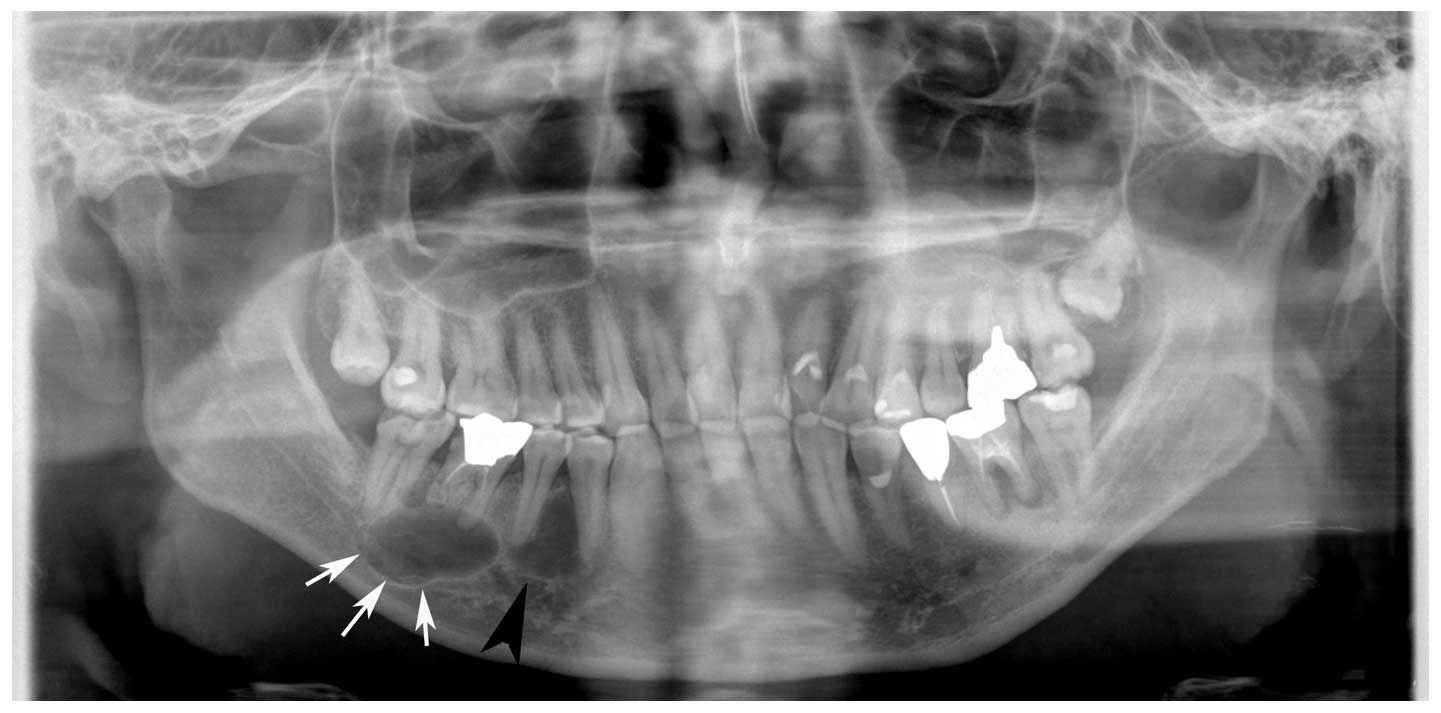canine: (570, 263, 650, 443), (794, 407, 852, 604), (814, 275, 879, 440), (612, 423, 667, 592)
incisor: (732, 412, 807, 573), (631, 298, 708, 430), (665, 417, 718, 588), (766, 268, 820, 434), (706, 415, 761, 570), (733, 282, 782, 446), (689, 308, 743, 428)
molar: (437, 410, 537, 563), (378, 250, 462, 412), (1018, 373, 1105, 524), (295, 246, 385, 386), (944, 408, 1046, 530), (1011, 269, 1091, 417), (352, 412, 450, 528), (440, 299, 530, 423), (1052, 223, 1154, 331), (969, 275, 1036, 428)
premolar: (559, 428, 636, 586), (844, 415, 904, 599), (907, 265, 965, 427), (863, 266, 921, 427), (901, 417, 972, 547), (514, 418, 567, 570), (509, 296, 569, 430)
